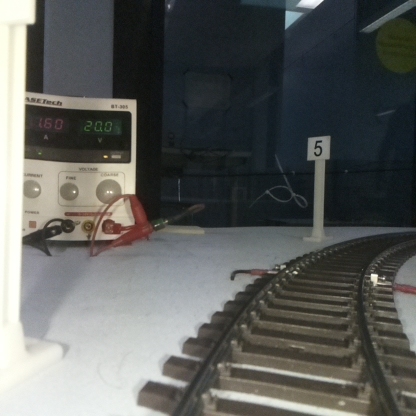white-info-5: (307, 137, 330, 241)
